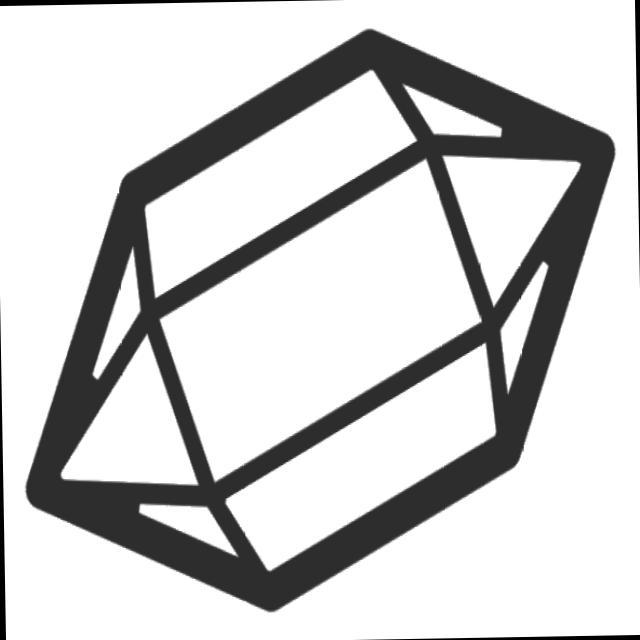crystal: (4, 16, 630, 631)
